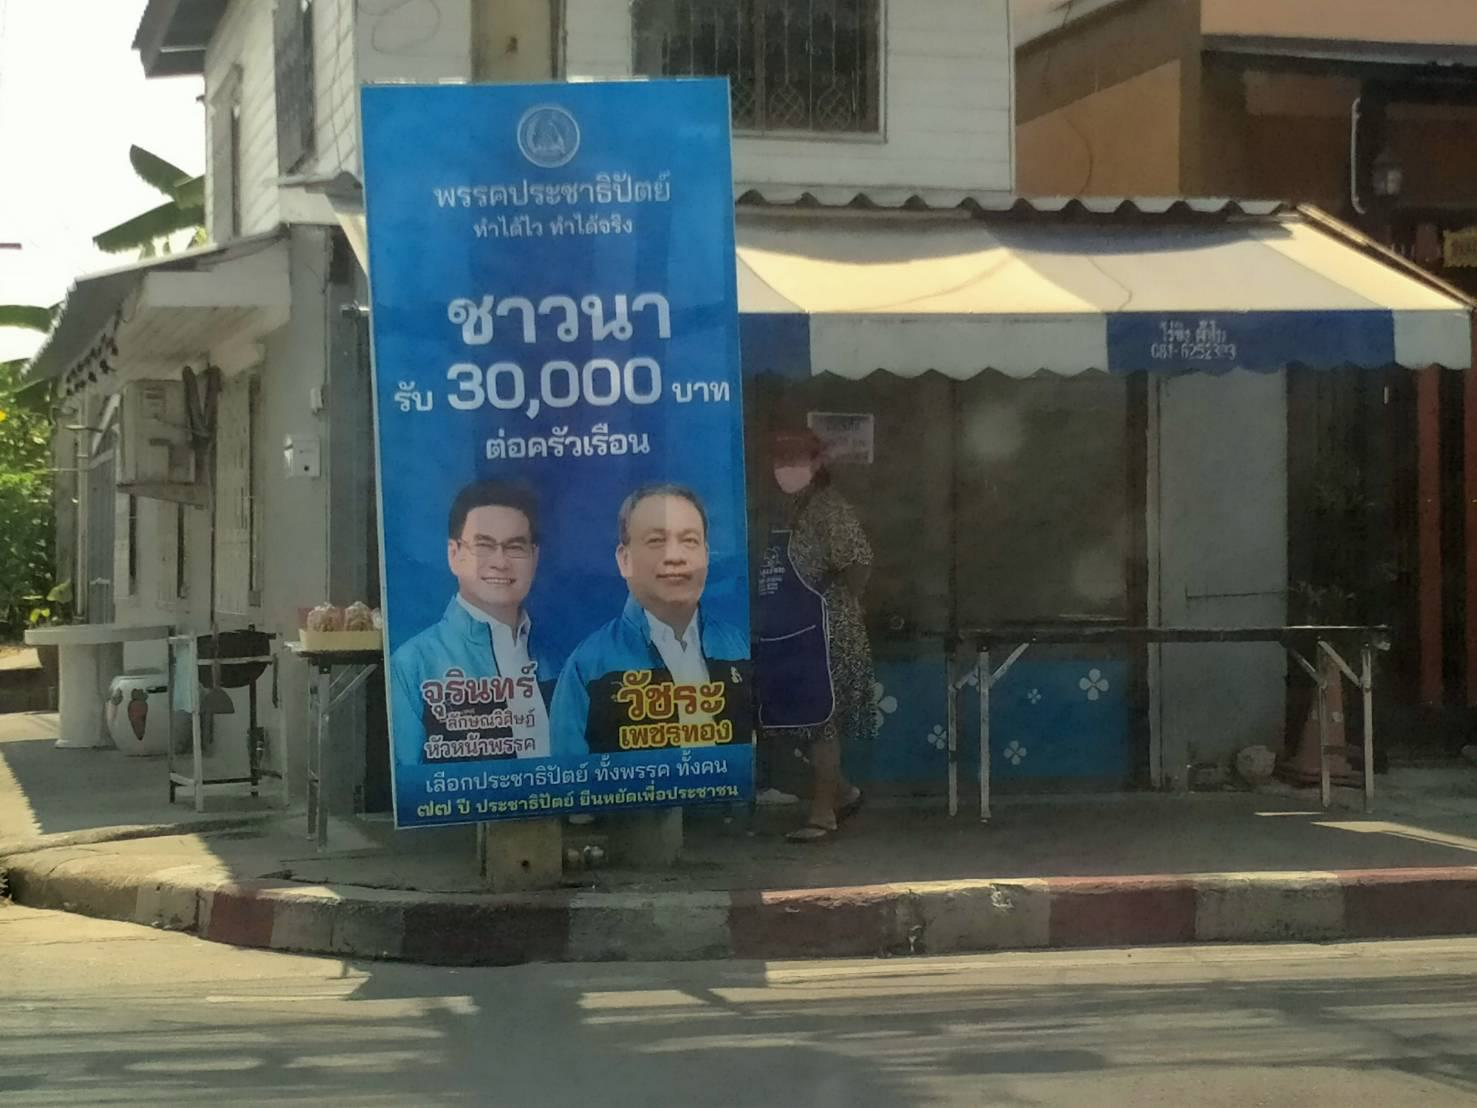Banner: (376, 74, 743, 852)
